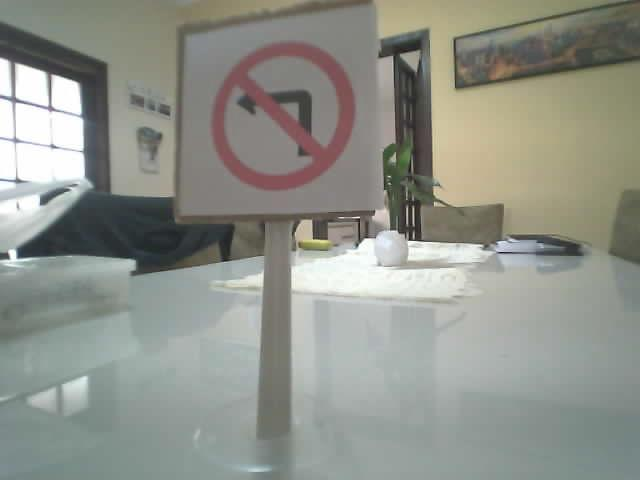R-4a_proibido-esquerda: (210, 40, 356, 190)
